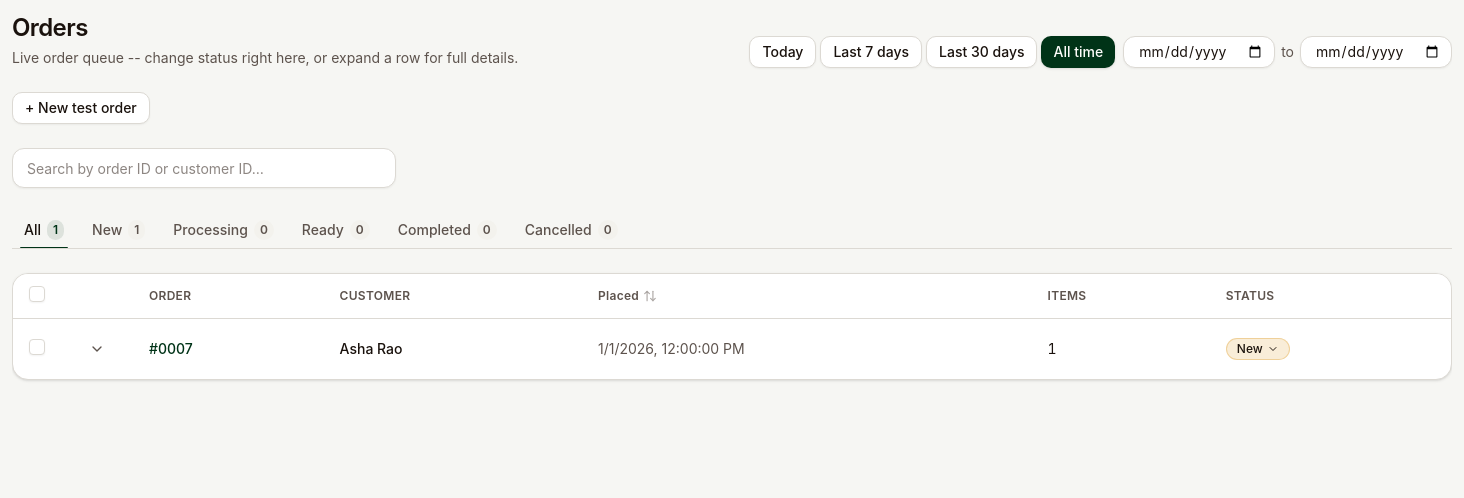
it: OrdersPage › only offers legal next statuses in the status dropdown
Press the mouse on the button with aria-label "Change status for order #0007" at (1258, 348), box [1226, 338, 1290, 360]
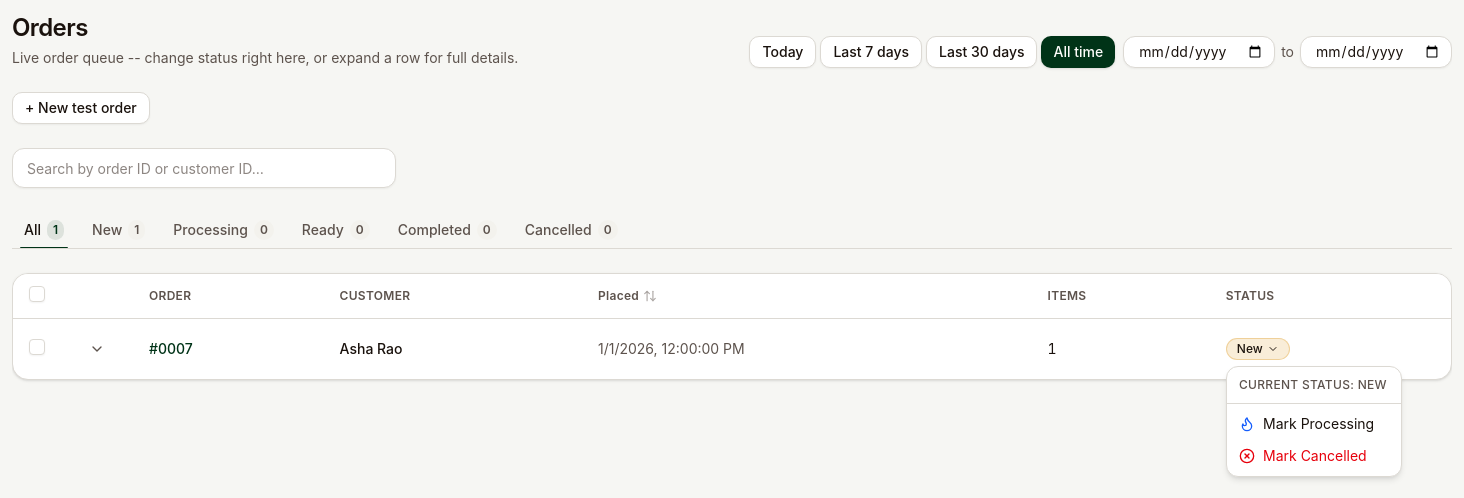
Expected: the menu items read "Mark Processing", "Mark Cancelled", in this order, [1239, 415, 1374, 432]; [1239, 447, 1367, 464]
